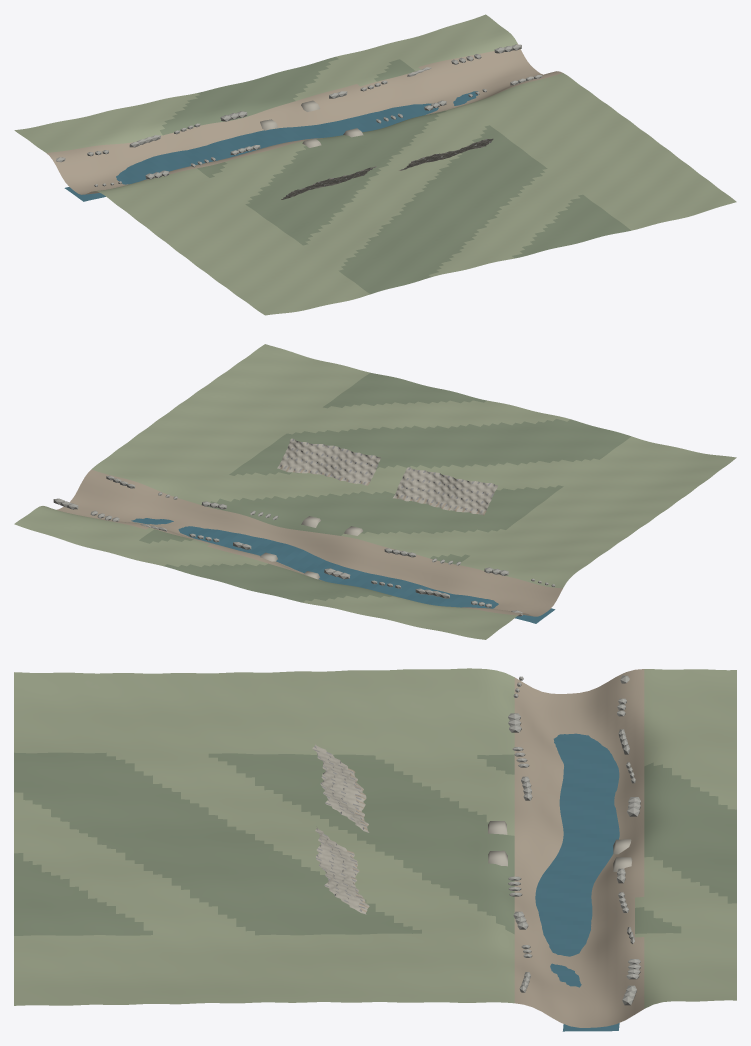
The model's file is ValoriaTerrainRiverCliffV2.glb.
3 views of the same model, one above another, from view 1: azimuth 30°, elevation 25°; view 2: azimuth 150°, elevation 25°; view 3: azimuth 270°, elevation 25° (orthographic). The views are drawn at different scales.
Visible parts, largest first — view 1: V2_VALORIA_LOWER_REAL_TERRAIN_NATIVE_HEIGHTFIELD, V2_VALORIA_RIVER_CONTINUOUS_RIPPLED_WATER, V2_VALORIA_RIVERBANK_AUTHOR_ROCKS, VALORIA_V2_TERRACED_LIMESTONE_CLIFF_1, VALORIA_V2_TERRACED_LIMESTONE_CLIFF_-1; view 2: V2_VALORIA_LOWER_REAL_TERRAIN_NATIVE_HEIGHTFIELD, V2_VALORIA_RIVER_CONTINUOUS_RIPPLED_WATER, VALORIA_V2_TERRACED_LIMESTONE_CLIFF_-1, VALORIA_V2_TERRACED_LIMESTONE_CLIFF_1, V2_VALORIA_RIVERBANK_AUTHOR_ROCKS; view 3: V2_VALORIA_LOWER_REAL_TERRAIN_NATIVE_HEIGHTFIELD, V2_VALORIA_RIVER_CONTINUOUS_RIPPLED_WATER, V2_VALORIA_RIVERBANK_AUTHOR_ROCKS, VALORIA_V2_TERRACED_LIMESTONE_CLIFF_-1, VALORIA_V2_TERRACED_LIMESTONE_CLIFF_1.
Part boxes in pixels (x1,y1,x2,y2): V2_VALORIA_LOWER_REAL_TERRAIN_NATIVE_HEIGHTFIELD: (14,14,736,315); V2_VALORIA_RIVER_CONTINUOUS_RIPPLED_WATER: (64,91,477,201); V2_VALORIA_RIVERBANK_AUTHOR_ROCKS: (56,44,542,186); VALORIA_V2_TERRACED_LIMESTONE_CLIFF_1: (399,138,493,170); VALORIA_V2_TERRACED_LIMESTONE_CLIFF_-1: (281,166,376,199); V2_VALORIA_LOWER_REAL_TERRAIN_NATIVE_HEIGHTFIELD: (14,344,736,639); V2_VALORIA_RIVER_CONTINUOUS_RIPPLED_WATER: (131,518,555,623); VALORIA_V2_TERRACED_LIMESTONE_CLIFF_-1: (393,467,497,515); VALORIA_V2_TERRACED_LIMESTONE_CLIFF_1: (277,438,380,485); V2_VALORIA_RIVERBANK_AUTHOR_ROCKS: (53,475,555,616); V2_VALORIA_LOWER_REAL_TERRAIN_NATIVE_HEIGHTFIELD: (14,668,736,1027); V2_VALORIA_RIVER_CONTINUOUS_RIPPLED_WATER: (535,733,619,1031); V2_VALORIA_RIVERBANK_AUTHOR_ROCKS: (508,675,640,1005); VALORIA_V2_TERRACED_LIMESTONE_CLIFF_-1: (312,744,369,832); VALORIA_V2_TERRACED_LIMESTONE_CLIFF_1: (315,826,369,914).
Size of the model in its own units: 64 by 5.12 by 59.
